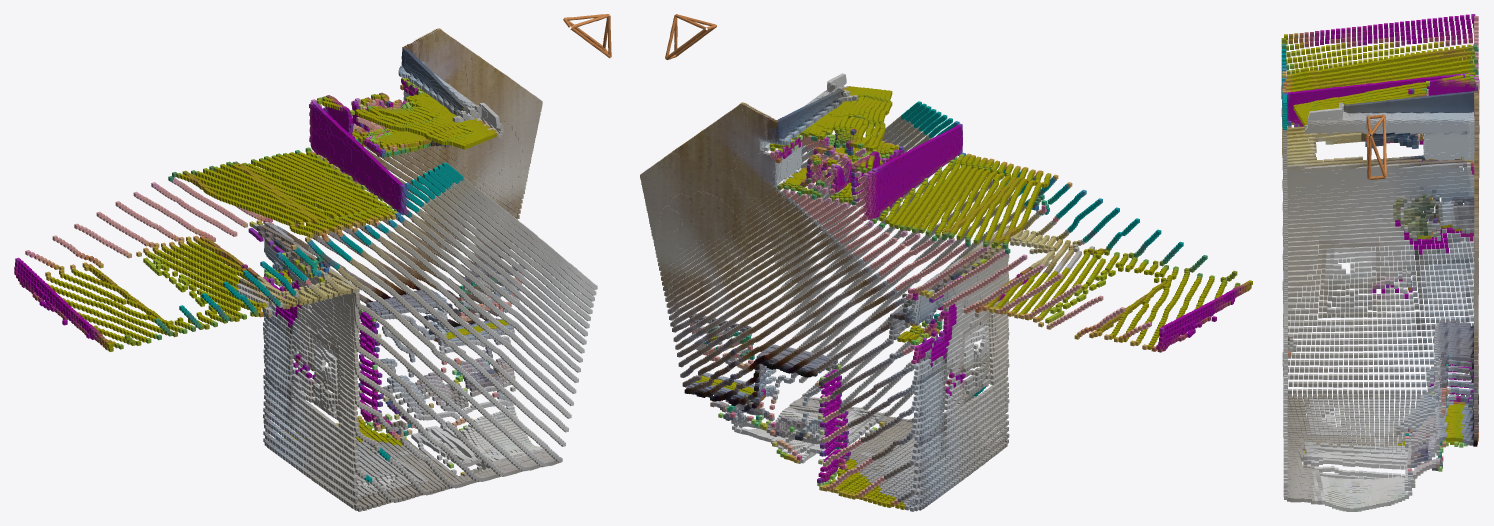
3 views of the same model, side by side, from view 1: azimuth 30°, elevation 25°; view 2: azimuth 150°, elevation 25°; view 3: azimuth 270°, elevation 25° (orthographic). The views are drawn at different scales.
Bounding box in the file's own units: 8.03 × 5.69 × 2.42.
